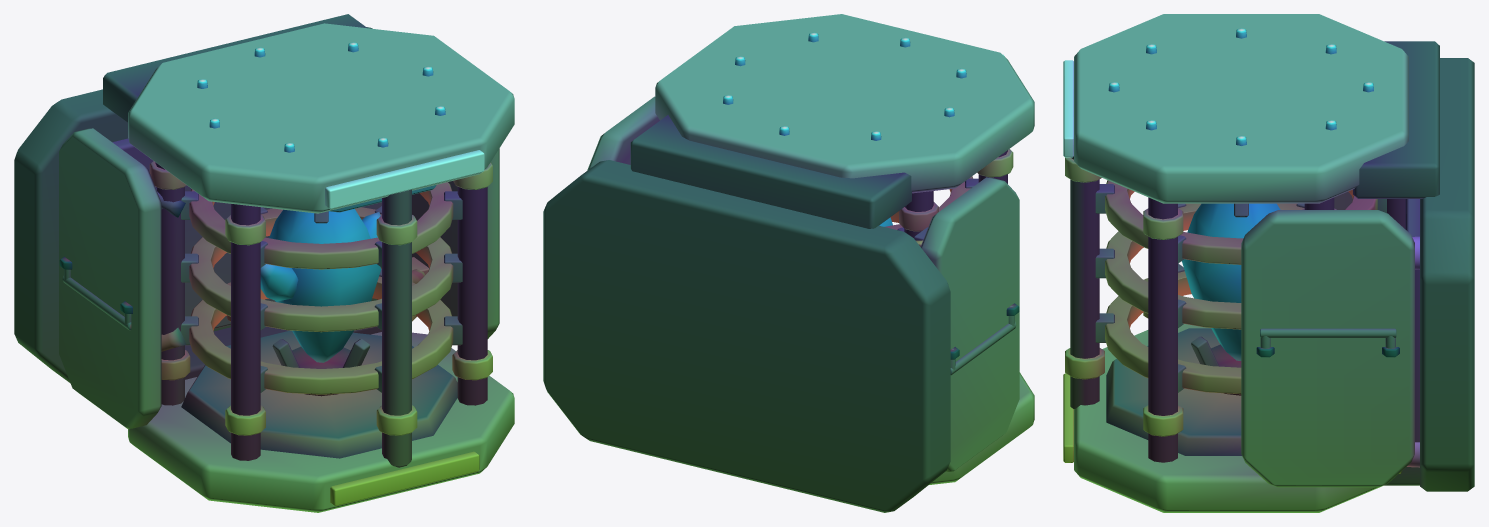
Rendered from gen_crystal.glb.
The picture shows the model from 3 angles, left to right: view 1: azimuth 30°, elevation 25°; view 2: azimuth 150°, elevation 25°; view 3: azimuth 270°, elevation 25°; orthographic projection. The views are drawn at different scales.
Visible parts, largest first — view 1: Body__armor, Body__dark, Body__armor_sub, Body__copper, Body__gunmetal, Body__emit_core, Body__brass, Body__hazard, Body__accent, Body__chrome; view 2: Body__dark, Body__armor, Body__armor_sub, Body__brass, Body__gunmetal, Body__chrome; view 3: Body__armor, Body__armor_sub, Body__dark, Body__gunmetal, Body__copper, Body__emit_core, Body__brass, Body__chrome, Body__hazard, Body__accent.
Part boxes in pixels (box(x1,y1,x2,y2)): Body__armor: box(128, 23, 514, 512); Body__dark: box(14, 14, 487, 467); Body__armor_sub: box(59, 128, 499, 428); Body__copper: box(161, 182, 453, 394); Body__gunmetal: box(62, 138, 462, 458); Body__emit_core: box(260, 209, 381, 362); Body__brass: box(149, 161, 492, 435); Body__hazard: box(325, 150, 484, 209); Body__accent: box(330, 451, 479, 506); Body__chrome: box(197, 42, 445, 152); Body__dark: box(543, 115, 1019, 512); Body__armor: box(655, 14, 1034, 485); Body__armor_sub: box(587, 96, 1019, 471); Body__brass: box(899, 149, 1013, 231); Body__gunmetal: box(897, 178, 1016, 375); Body__chrome: box(723, 32, 966, 140); Body__armor: box(1074, 14, 1408, 512); Body__armor_sub: box(1241, 191, 1414, 487); Body__dark: box(1070, 41, 1474, 491); Body__gunmetal: box(1095, 184, 1419, 455); Body__copper: box(1105, 180, 1377, 394); Body__emit_core: box(1182, 203, 1280, 360); Body__brass: box(1065, 157, 1336, 436); Body__chrome: box(1108, 28, 1419, 467); Body__hazard: box(1063, 60, 1073, 157); Body__accent: box(1063, 373, 1401, 473).
Size of the model in its own units: 0.76 by 0.6395 by 0.663.
